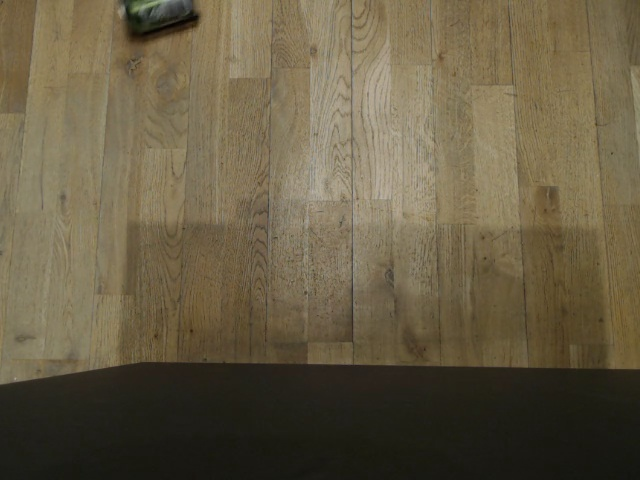beer: (115, 0, 204, 37)
